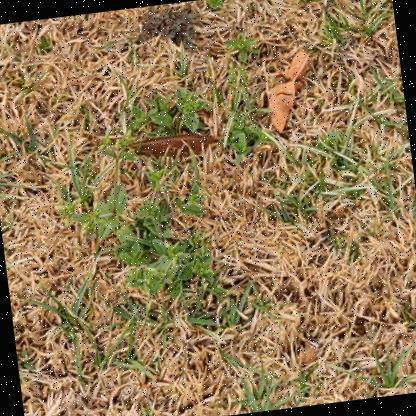Weeds: (46, 124, 216, 316), (124, 72, 262, 168)
